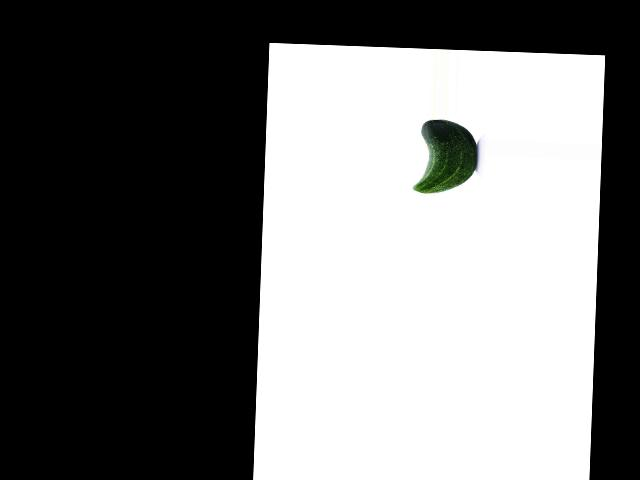cucumber: (413, 118, 478, 196)
